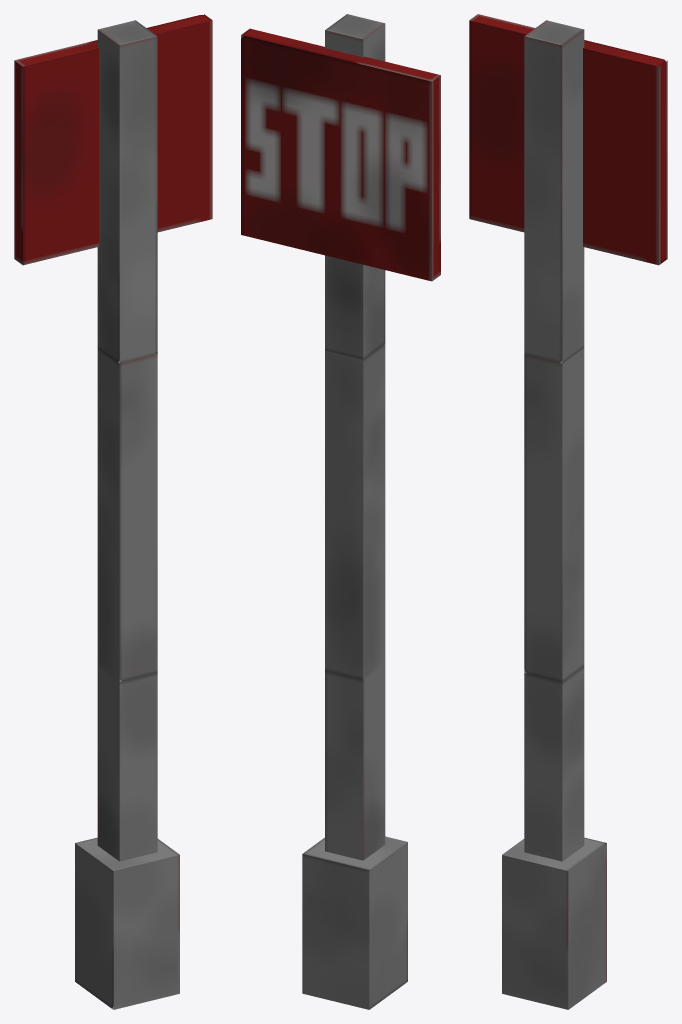
File: stopsign.obj
The picture shows the model from 3 angles, left to right: view 1: azimuth 30°, elevation 25°; view 2: azimuth 150°, elevation 25°; view 3: azimuth 330°, elevation 25°; orthographic projection.
Parts seen in each view (by area): view 1: cube.002, cube, cube.001, cube.000; view 2: cube.002, cube, cube.000, cube.001; view 3: cube.002, cube, cube.001, cube.000.
Boxes of the visible parts, left/top/right/bottom form: cube.002: left=14, top=14, right=212, bottom=265; cube: left=75, top=666, right=179, bottom=1009; cube.001: left=97, top=20, right=157, bottom=363; cube.000: left=97, top=348, right=157, bottom=681; cube.002: left=241, top=28, right=440, bottom=281; cube: left=302, top=664, right=407, bottom=1009; cube.000: left=325, top=343, right=385, bottom=679; cube.001: left=325, top=14, right=385, bottom=359; cube.002: left=469, top=14, right=667, bottom=265; cube: left=502, top=666, right=606, bottom=1009; cube.001: left=524, top=20, right=584, bottom=363; cube.000: left=524, top=348, right=584, bottom=681.
Size of the model in its own units: 0.8301 by 3.99 by 0.2913.
